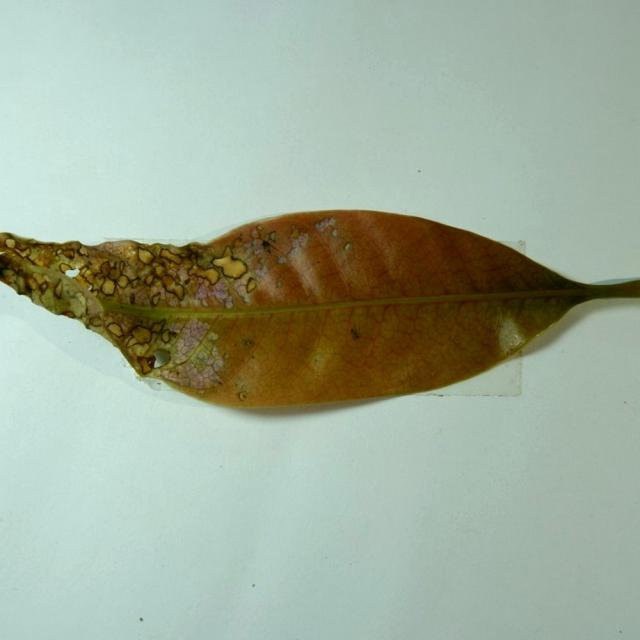Anthracnose: (209, 253, 252, 284), (172, 265, 200, 294), (65, 288, 88, 317), (163, 276, 186, 300), (194, 266, 221, 285), (84, 292, 103, 317), (130, 325, 153, 344), (289, 230, 309, 251), (151, 348, 172, 368), (159, 248, 184, 264), (136, 354, 157, 373), (195, 280, 214, 301), (10, 244, 32, 260), (130, 341, 152, 357), (196, 252, 216, 269), (100, 278, 117, 296), (105, 321, 124, 337), (137, 248, 155, 264), (251, 238, 267, 256), (107, 263, 123, 280), (194, 357, 210, 373), (57, 248, 76, 260), (99, 260, 113, 276), (150, 320, 165, 334), (124, 335, 140, 348), (58, 262, 74, 274), (116, 275, 130, 288), (54, 279, 63, 298), (26, 276, 38, 290), (93, 275, 104, 290), (88, 316, 103, 327), (64, 268, 80, 278), (80, 267, 93, 279), (150, 292, 161, 306), (66, 241, 81, 251), (221, 246, 233, 258), (144, 274, 156, 286), (251, 226, 262, 239), (232, 237, 243, 249), (213, 358, 224, 370), (39, 280, 49, 293), (290, 226, 300, 238), (160, 330, 170, 342), (197, 351, 209, 361), (224, 296, 233, 309), (5, 238, 16, 248), (154, 265, 164, 275), (313, 355, 323, 365), (268, 231, 277, 242), (243, 339, 254, 348), (62, 311, 75, 318), (238, 391, 247, 401), (79, 246, 88, 256), (343, 242, 352, 251), (209, 332, 219, 340), (277, 256, 286, 264), (129, 294, 136, 304), (276, 279, 282, 289), (331, 229, 339, 236)
Mango: (0, 211, 639, 417)
